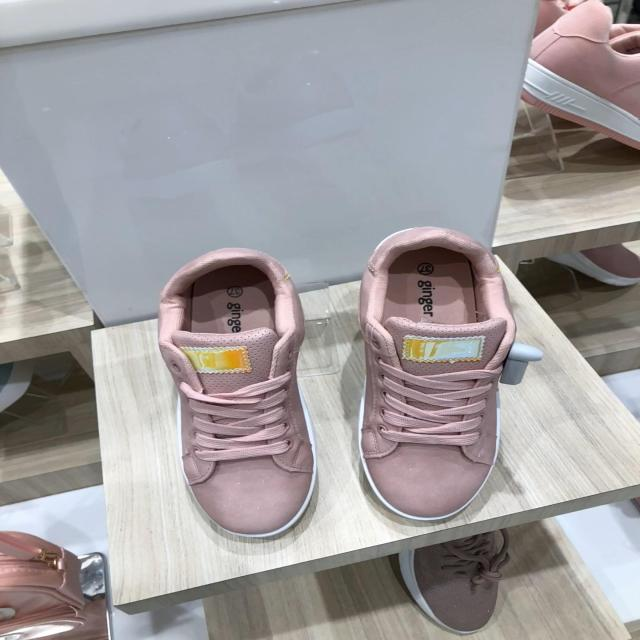shoe: (119, 248, 465, 598), (348, 227, 491, 534)
